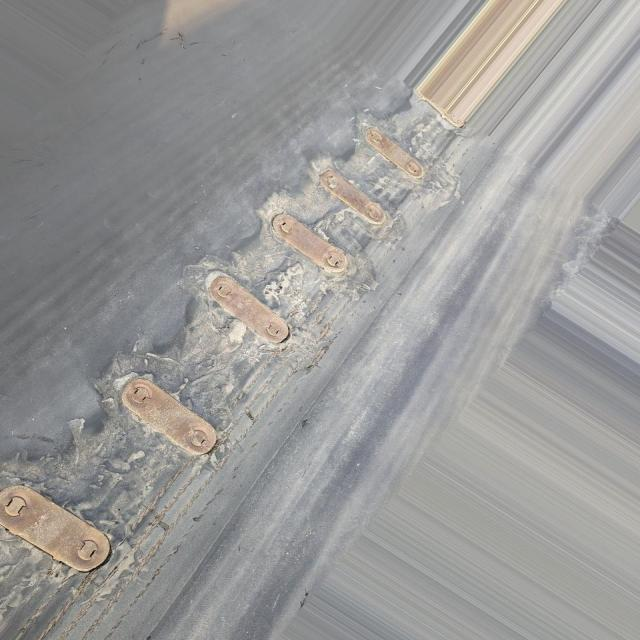patch work: (0, 105, 468, 613)
